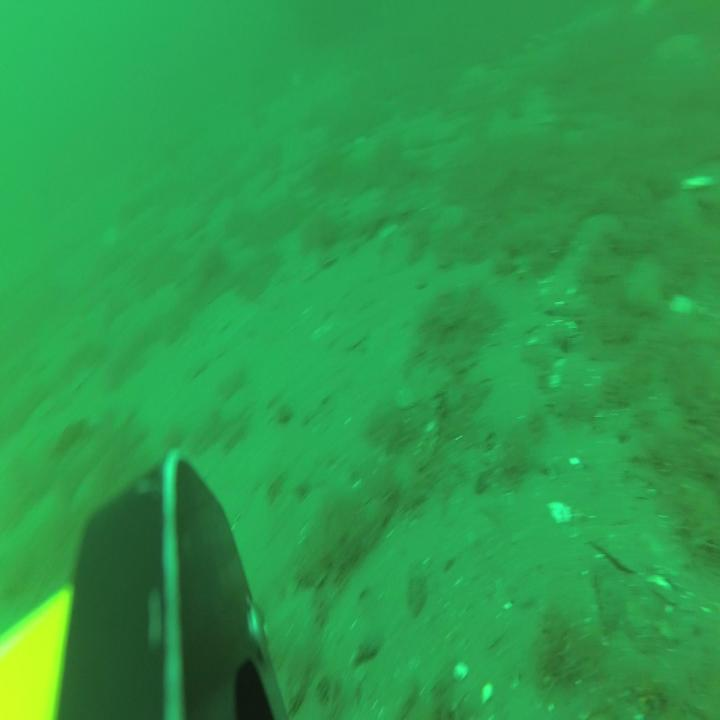starfish: (660, 28, 704, 76), (453, 60, 494, 103)
